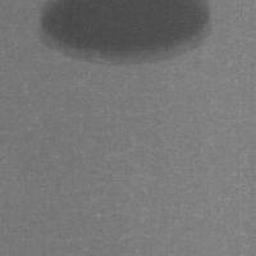Oil spot: (40, 0, 209, 62)
